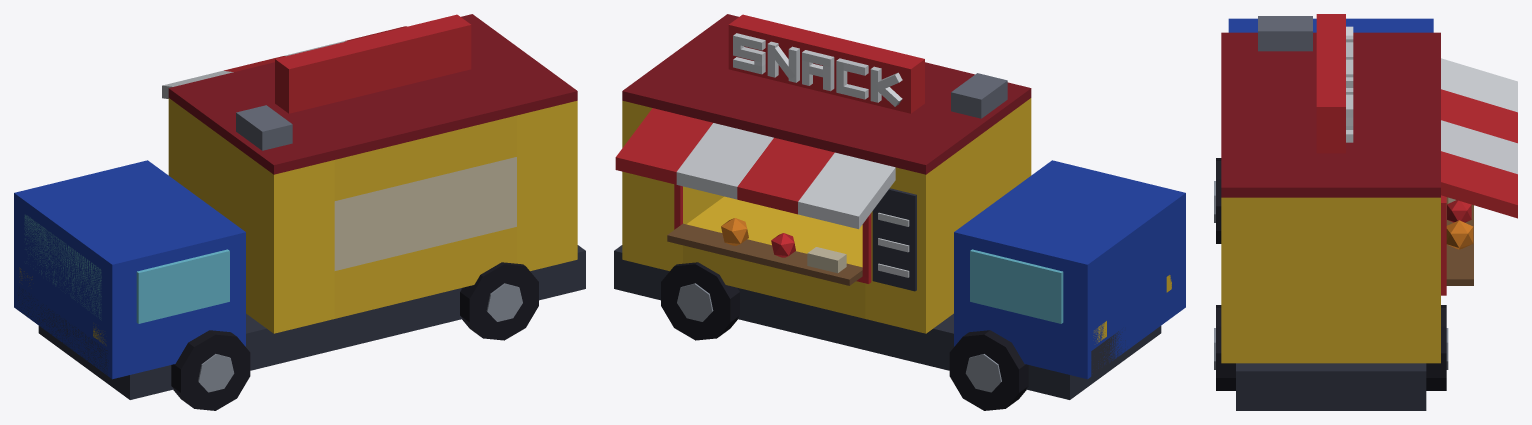
File: Decor_HeroHQ_Truck.fbx
The picture shows the model from 3 angles, left to right: view 1: azimuth 30°, elevation 25°; view 2: azimuth 150°, elevation 25°; view 3: azimuth 270°, elevation 25°; orthographic projection. The views are drawn at different scales.
Visible parts, largest first — view 1: Truck_Body; view 2: Truck_Body; view 3: Truck_Body.
Part boxes in pixels (left/top/right/bottom): Truck_Body: left=14, top=14, right=585, bottom=410; Truck_Body: left=614, top=14, right=1185, bottom=410; Truck_Body: left=1214, top=14, right=1517, bottom=410.
Bounding box in the file's own units: 15.7 × 8.7 × 8.3.
